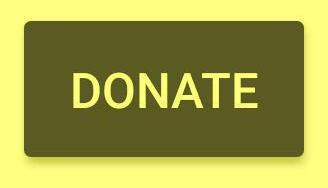Button: (1, 1, 327, 187)
